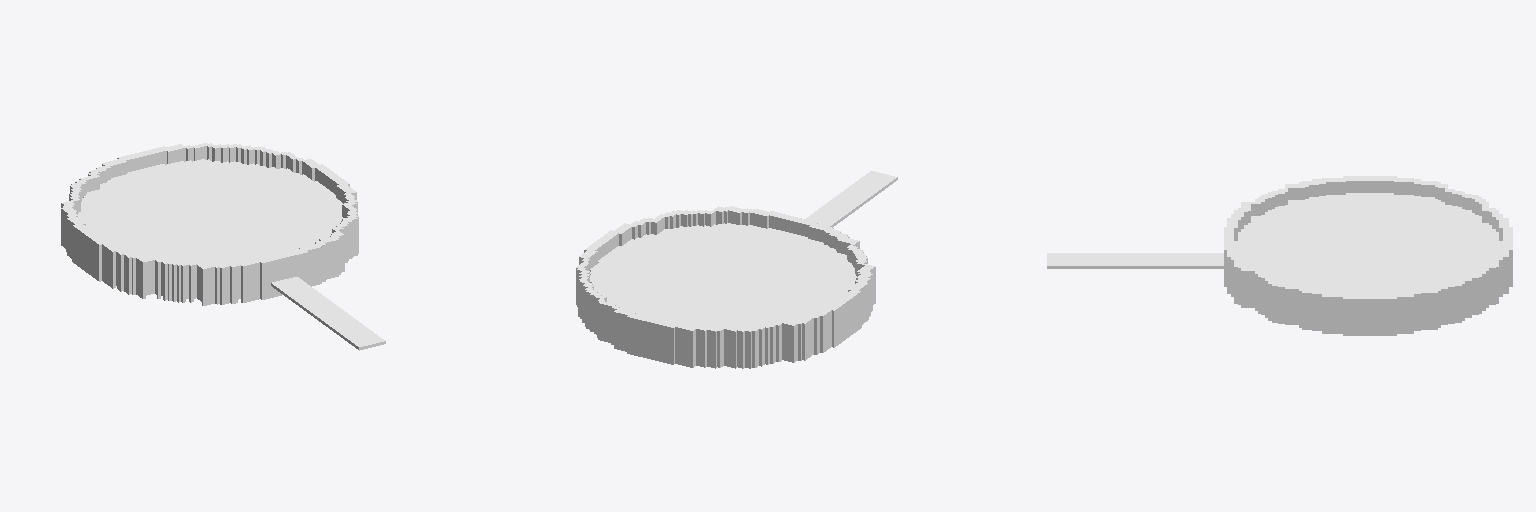
Rendered from SartenQuemada.obj.
The picture shows the model from 3 angles: view 1: azimuth 30°, elevation 25°; view 2: azimuth 150°, elevation 25°; view 3: azimuth 270°, elevation 25°; orthographic projection.
Parts seen in each view (by area): view 1: object 1; view 2: object 1; view 3: object 1.
Boxes of the visible parts, box(x1,y1,x2,y2) form: object 1: box(61, 143, 385, 350); object 1: box(576, 171, 897, 368); object 1: box(1047, 176, 1512, 335).
Size of the model in its own units: 8.5 by 1.2 by 13.7.